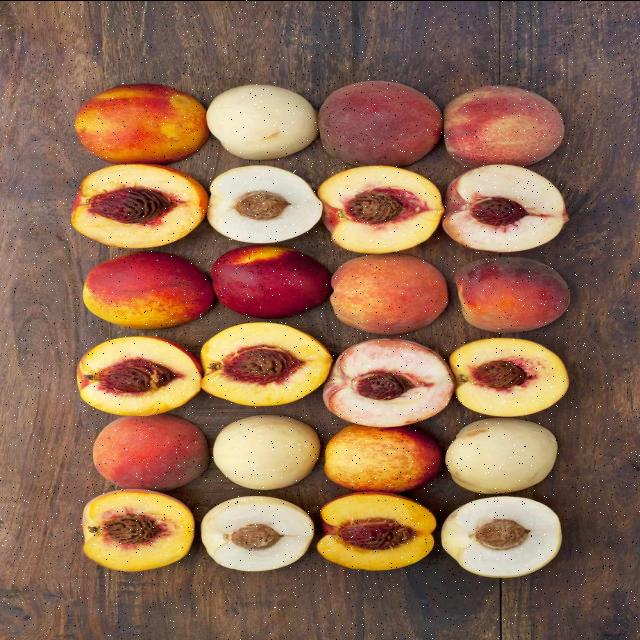peach: (75, 83, 209, 164), (319, 80, 442, 166), (83, 250, 215, 328), (444, 85, 564, 167), (330, 254, 448, 334), (211, 244, 331, 317), (93, 414, 208, 490), (455, 256, 570, 332), (325, 424, 441, 492)
